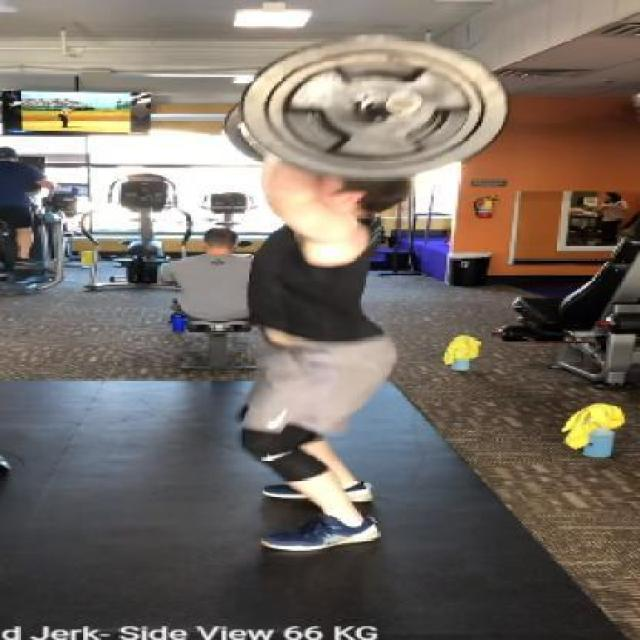barbell: (239, 31, 515, 183)
